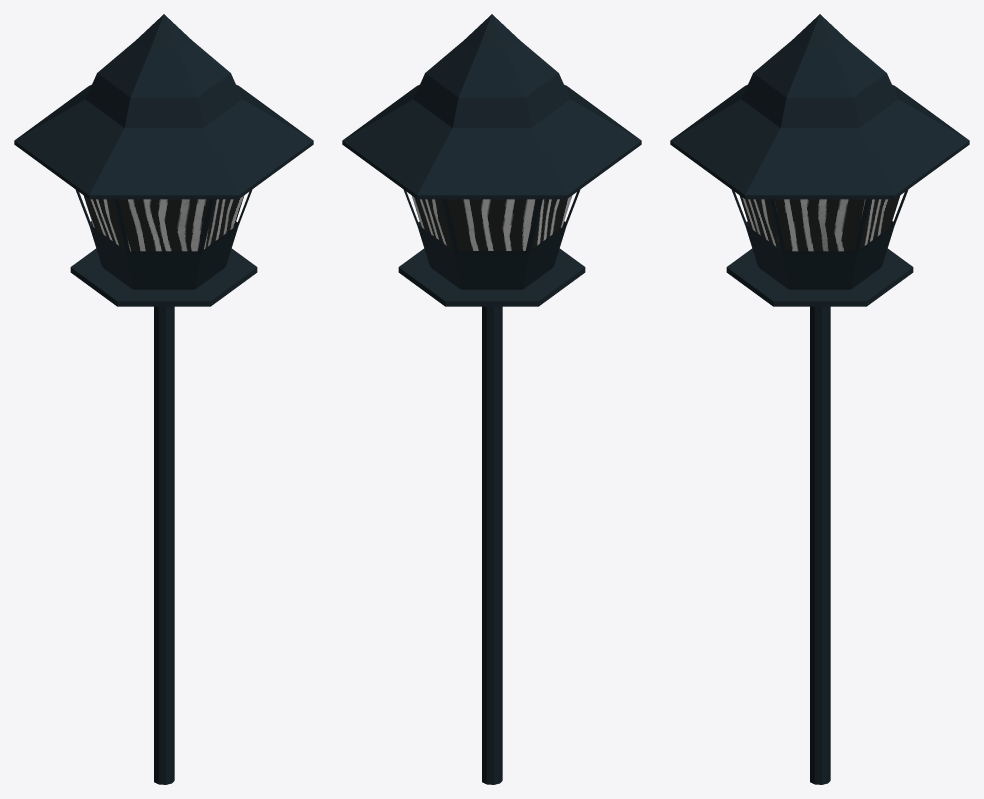
Rendered from 14_lampDarker.fbx.
3 views of the same model, side by side, from view 1: azimuth 30°, elevation 25°; view 2: azimuth 150°, elevation 25°; view 3: azimuth 270°, elevation 25° (orthographic).
Visible parts, largest first — view 1: Cylinder.017, Cylinder.018, Cylinder.012; view 2: Cylinder.017, Cylinder.018, Cylinder.012; view 3: Cylinder.017, Cylinder.018, Cylinder.012.
Part boxes in pixels (bbox=[...]): Cylinder.017: bbox=[14, 14, 313, 306]; Cylinder.018: bbox=[154, 306, 174, 784]; Cylinder.012: bbox=[83, 195, 244, 251]; Cylinder.017: bbox=[342, 14, 641, 306]; Cylinder.018: bbox=[482, 306, 502, 784]; Cylinder.012: bbox=[411, 195, 572, 250]; Cylinder.017: bbox=[670, 14, 969, 306]; Cylinder.018: bbox=[810, 306, 830, 784]; Cylinder.012: bbox=[739, 195, 900, 251].
Size of the model in its own units: 118 by 385 by 136.
